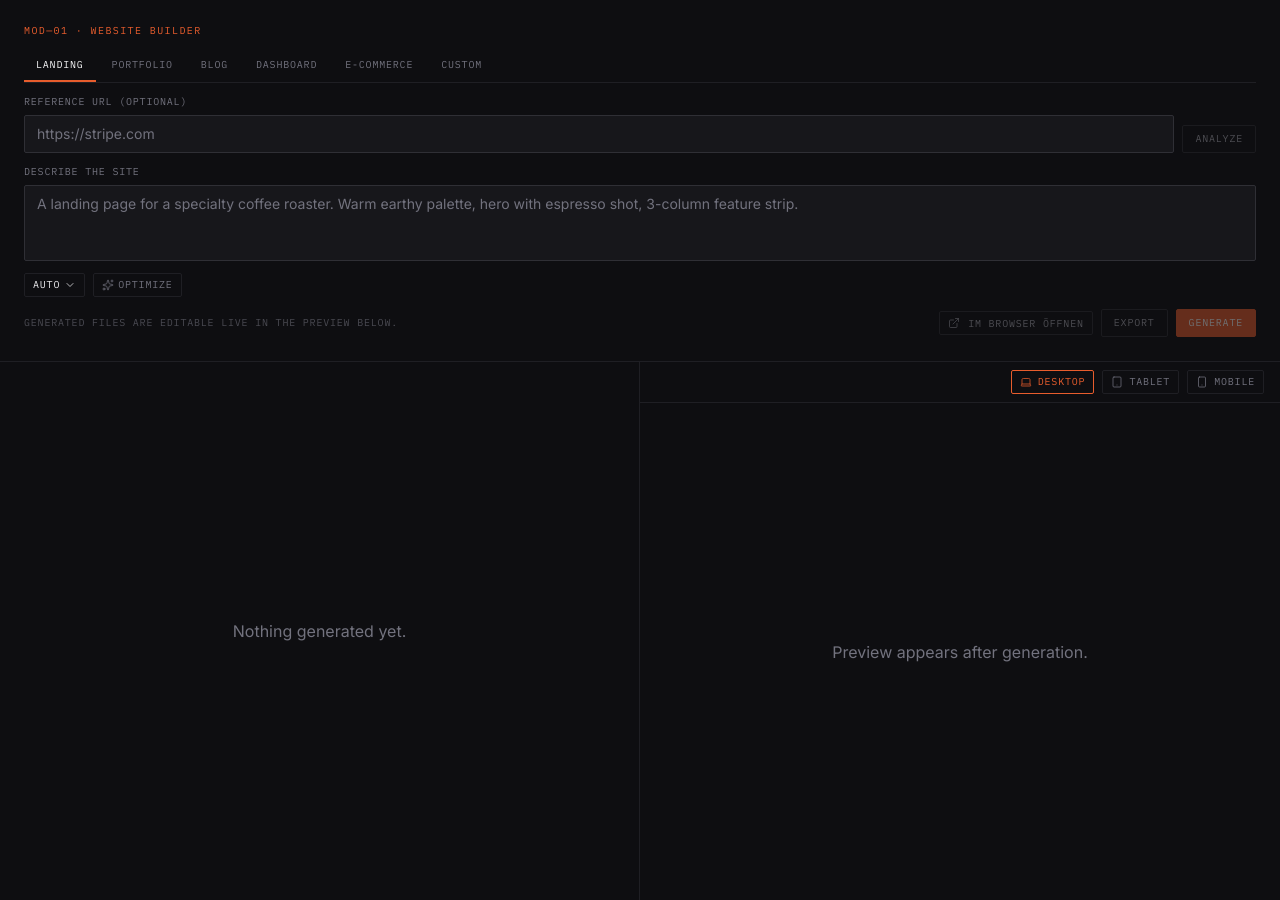
Scenario: WebsiteBuilderPage › renders the rich analysis panel with hero text + feature badges after analyze
Type "https://ilithya.rocks" into the field labelled "Reference URL (optional)".
click(599, 134); type("https://ilithya.rocks")  # box [24,115,1174,153]
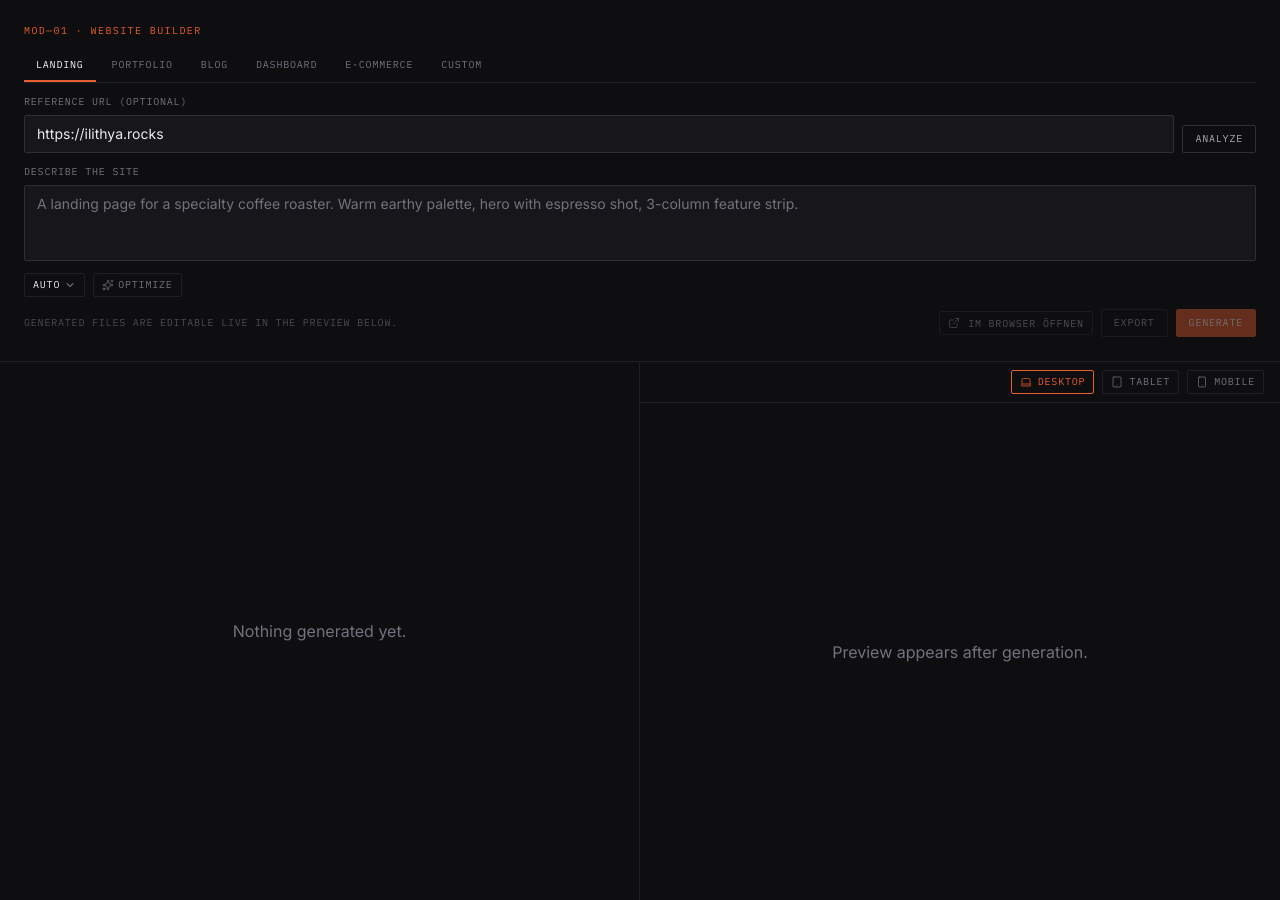
Click the button "Analyze".
click(1219, 139)  # box [1182,125,1256,153]
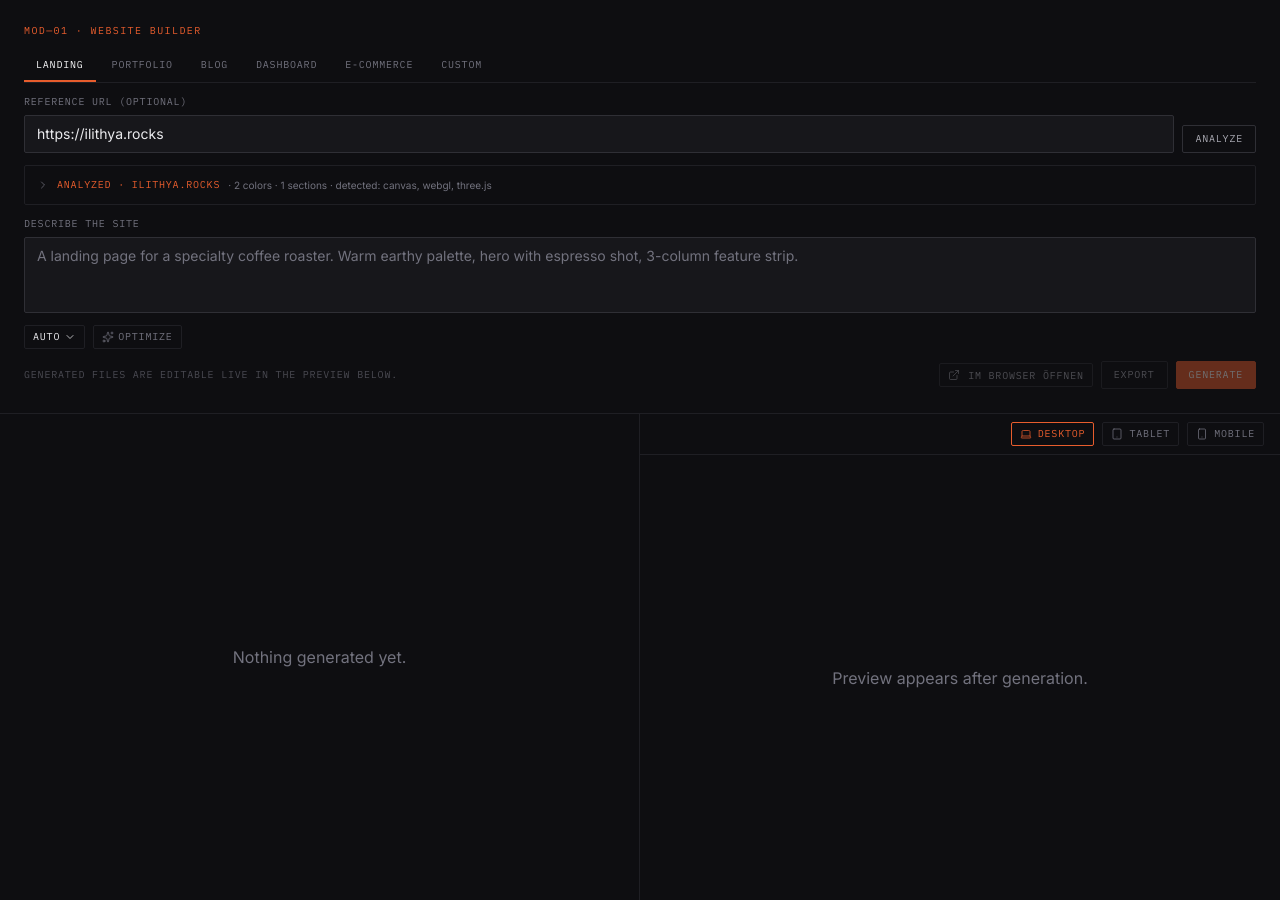
Expected: the element with test id "analysis-panel" is shown
Expected: the text "Analyzed · ilithya.rocks" is shown, [57,178,220,192]
Expand to reveal the rich content.
Click the button that starts with "Analyzed ·".
click(94, 184)  # box [25,166,1255,204]
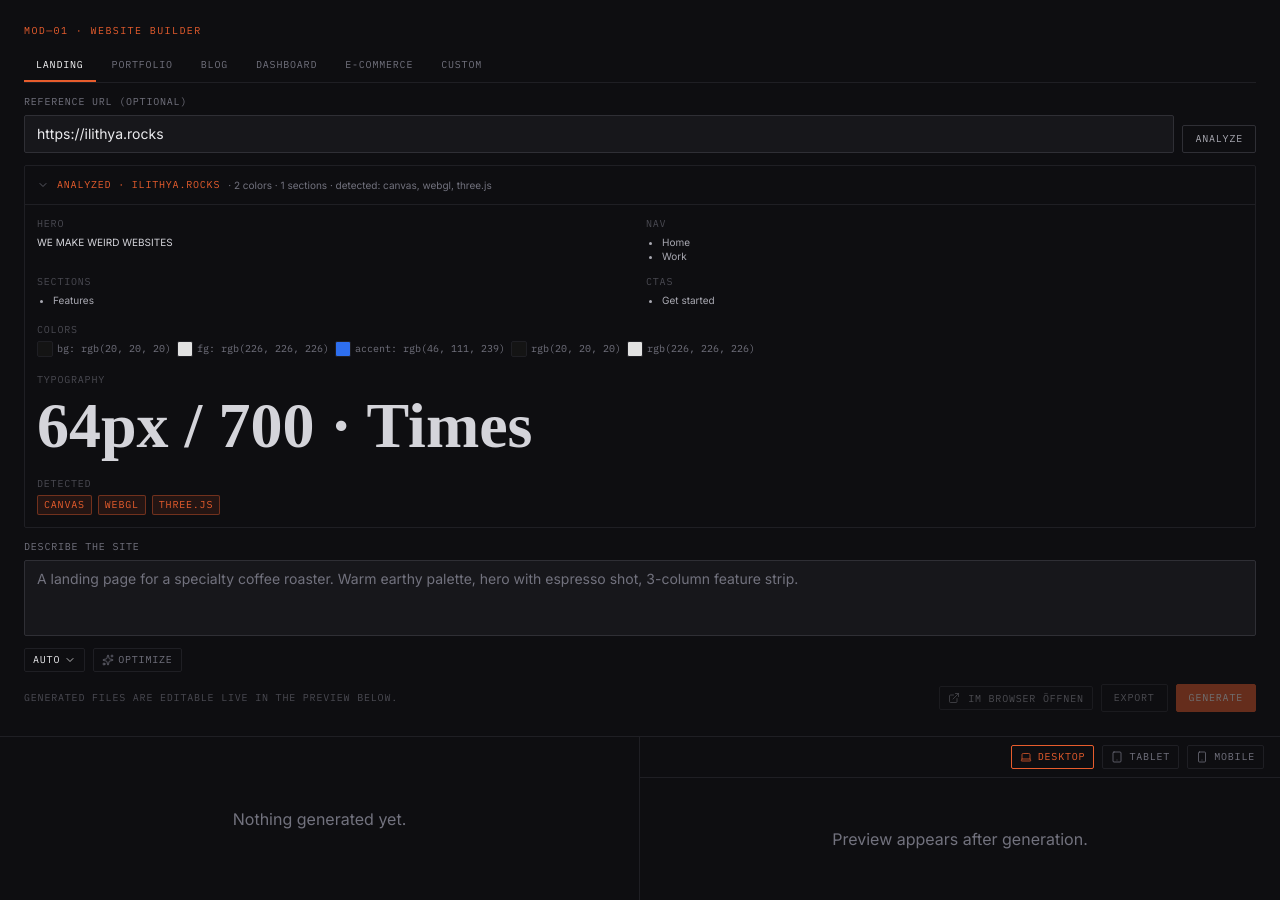
Expected: the text "WE MAKE WEIRD WEBSITES" is shown, [37,236,173,248]
Expected: the text "Canvas" is shown, [37,495,92,515]
Expected: the text "WebGL" is shown, [98,495,146,515]
